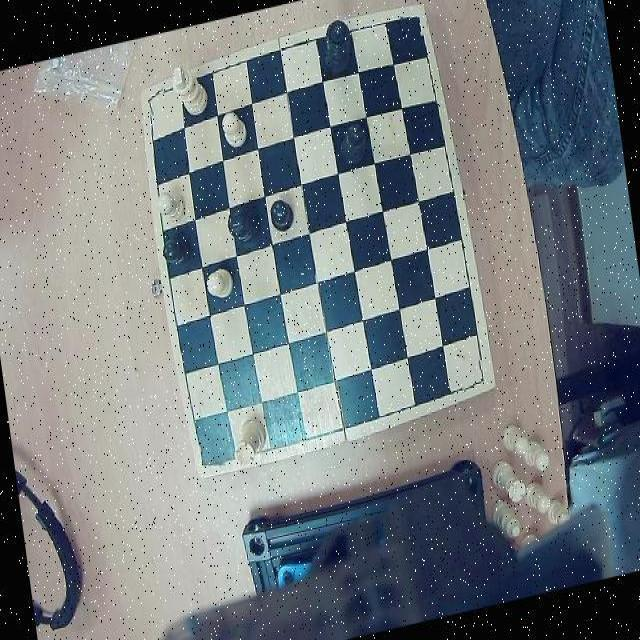chess-table-corners: (458, 358, 493, 396), (192, 440, 228, 476), (398, 5, 430, 40), (140, 82, 168, 116)
